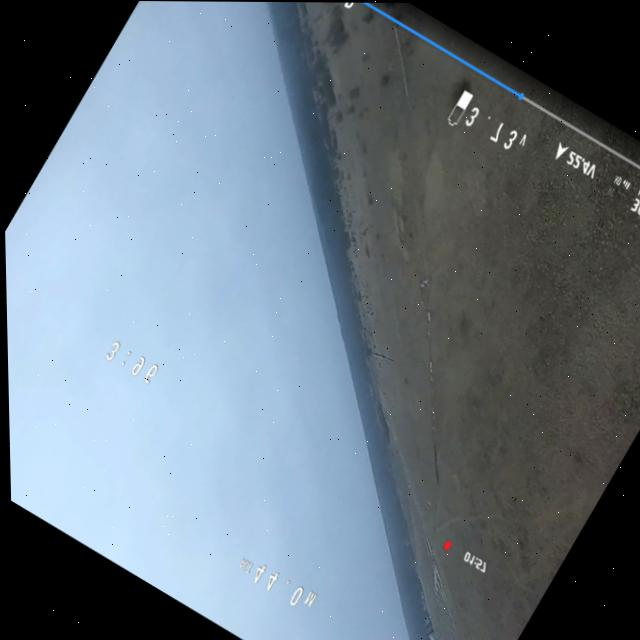planedrone: (365, 344, 401, 376)
